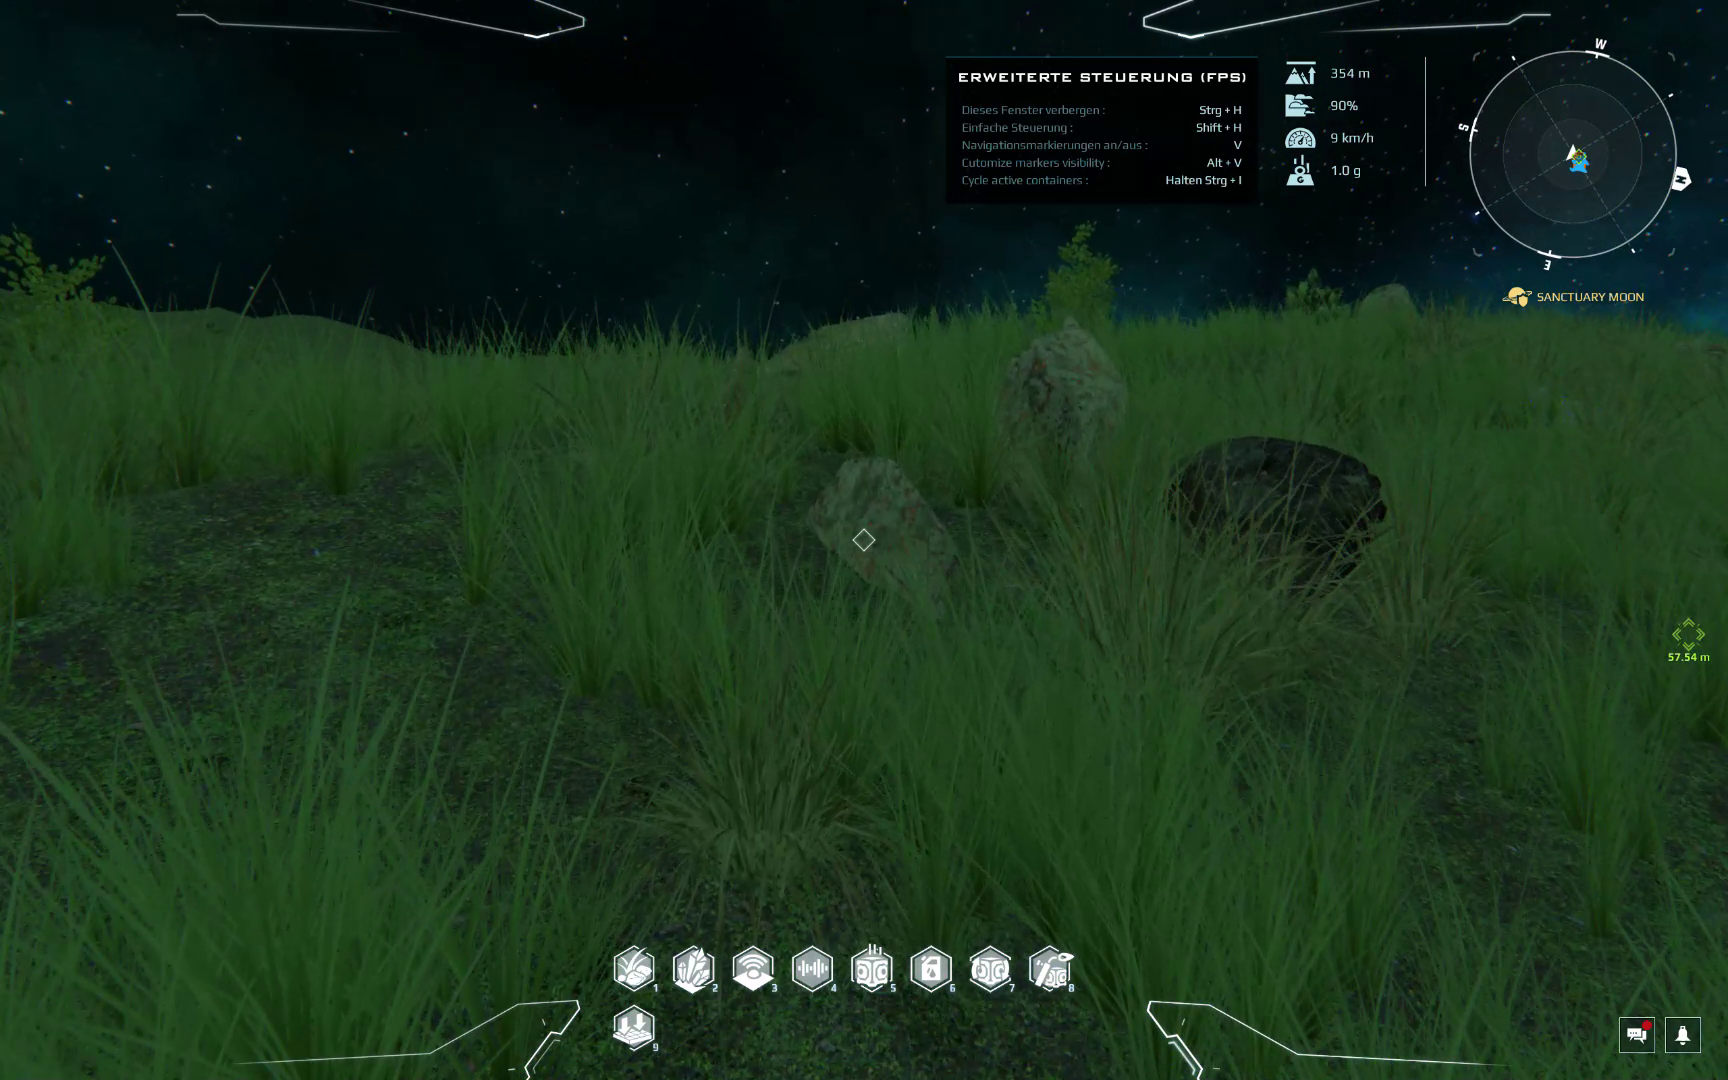Ore: (1166, 434, 1387, 581), (807, 452, 959, 608), (996, 320, 1127, 488), (763, 310, 914, 376)
